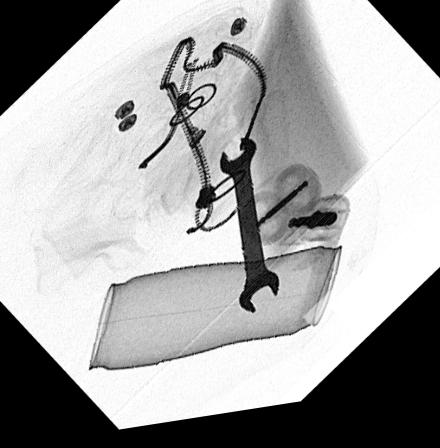Wrench: (217, 142, 279, 322)
